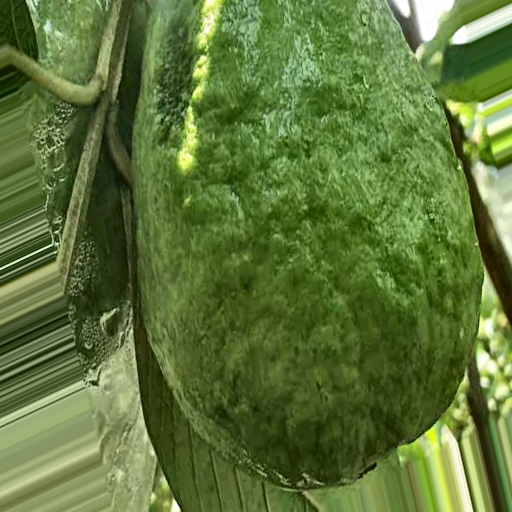guava: (93, 56, 457, 506)
